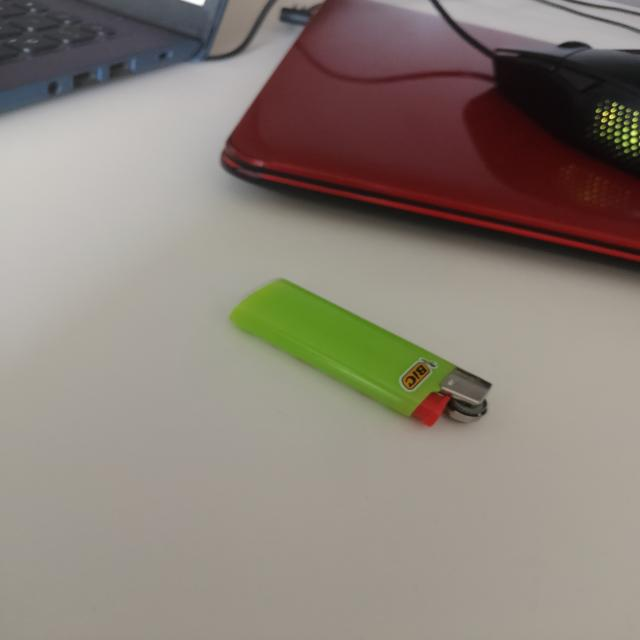lighter: (229, 279, 492, 422)
